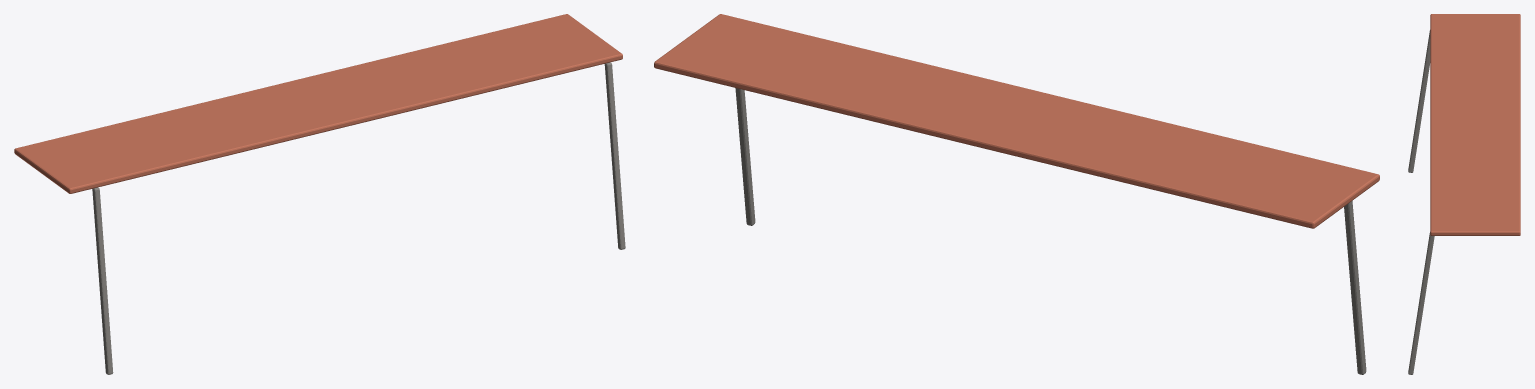
The model's file is Toldo.fbx.
3 renders of one model, left to right at view 1: azimuth 30°, elevation 25°; view 2: azimuth 150°, elevation 25°; view 3: azimuth 270°, elevation 25°, orthographic. The views are drawn at different scales.
Visible parts, largest first — view 1: Toldo; view 2: Toldo; view 3: Toldo.
Boxes of the visible parts, box(x1,y1,x2,y2) form: Toldo: box(14, 14, 625, 374); Toldo: box(654, 14, 1379, 374); Toldo: box(1408, 14, 1520, 374).
Size of the model in its own units: 8 by 2.53 by 1.74.
